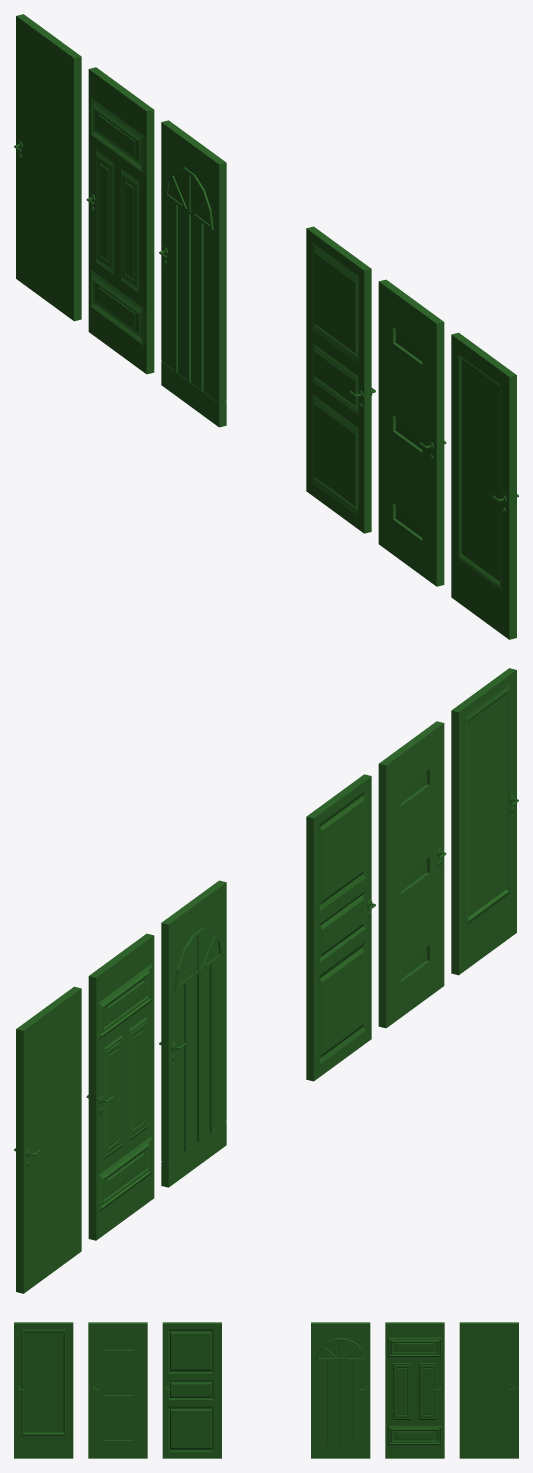
3 renders of one model, top to bottom at view 1: azimuth 30°, elevation 25°; view 2: azimuth 150°, elevation 25°; view 3: azimuth 270°, elevation 25°, orthographic. The views are drawn at different scales.
Visible parts, largest first — view 1: Door, Door.004, Door.001, Door.003, Door.005, Door.002; view 2: Door.004, Door, Door.001, Door.003, Door.002, Door.005; view 3: Door.001, Door, Door.002, Door.003, Door.004, Door.005.
Part boxes in pixels (bbox=[...]): Door: bbox=[378, 279, 446, 586]; Door.004: bbox=[86, 67, 154, 374]; Door.001: bbox=[306, 226, 375, 533]; Door.003: bbox=[159, 120, 226, 427]; Door.005: bbox=[14, 14, 81, 321]; Door.002: bbox=[451, 332, 518, 639]; Door.004: bbox=[86, 933, 154, 1240]; Door: bbox=[378, 721, 446, 1028]; Door.001: bbox=[306, 774, 375, 1081]; Door.003: bbox=[159, 880, 226, 1187]; Door.002: bbox=[451, 668, 518, 975]; Door.005: bbox=[14, 986, 81, 1293]; Door.001: bbox=[162, 1322, 221, 1458]; Door: bbox=[88, 1322, 147, 1458]; Door.002: bbox=[14, 1322, 73, 1458]; Door.003: bbox=[311, 1322, 370, 1458]; Door.004: bbox=[385, 1322, 444, 1458]; Door.005: bbox=[459, 1322, 518, 1458].
Size of the model in its own units: 0.1816 by 2.16 by 7.33.
